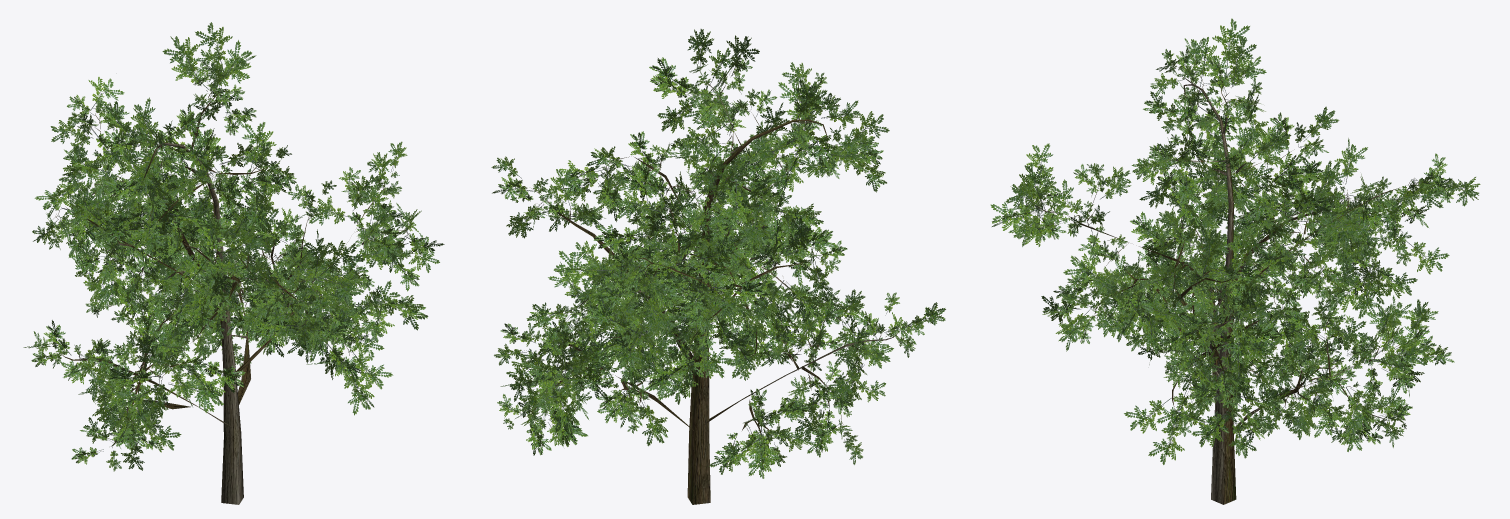
Rendered from ez_ash_a.glb.
The picture shows the model from 3 angles, left to right: view 1: azimuth 30°, elevation 25°; view 2: azimuth 150°, elevation 25°; view 3: azimuth 270°, elevation 25°; orthographic projection. The views are drawn at different scales.
Parts seen in each view (by area): view 1: Tree; view 2: Tree; view 3: Tree.
Part boxes in pixels (left/top/right/bottom): Tree: left=23, top=22, right=444, bottom=504; Tree: left=491, top=29, right=945, bottom=504; Tree: left=990, top=18, right=1480, bottom=504.
Size of the model in its own units: 74.8 by 81.25 by 80.73.
Materials: 2 (2 with a texture image).
